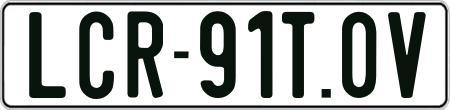0: (339, 11, 376, 100)
1: (245, 8, 272, 95)
9: (199, 11, 240, 99)
C: (76, 9, 111, 98)
L: (27, 9, 70, 100)
R: (126, 11, 167, 99)
T: (281, 10, 317, 101)
V: (385, 10, 426, 97)
